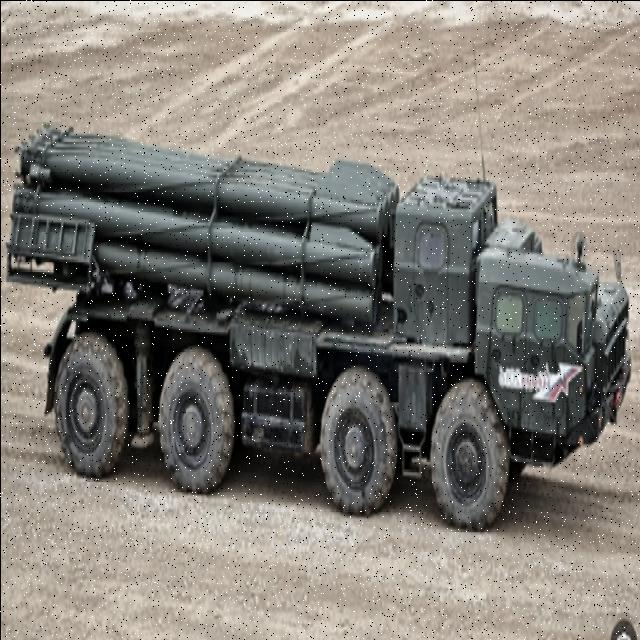MLRS: (7, 120, 635, 530)
